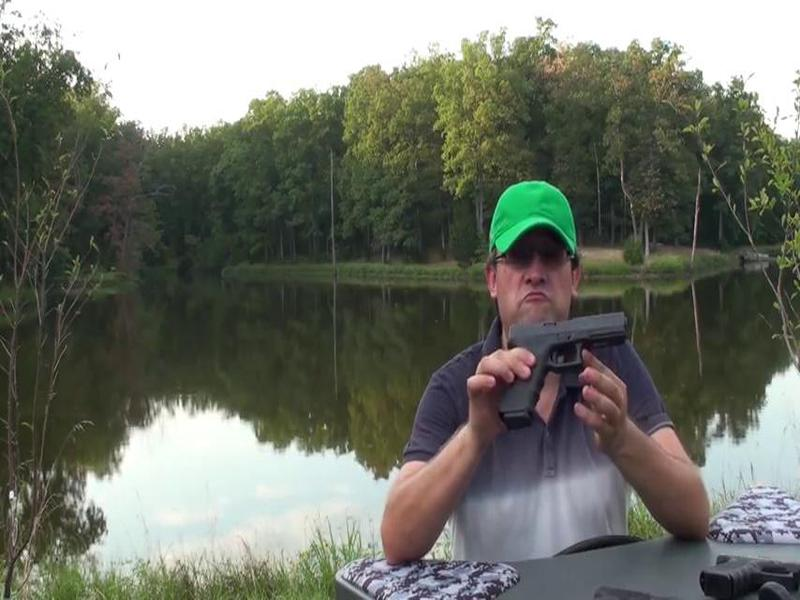Pistola: (482, 307, 627, 427)
